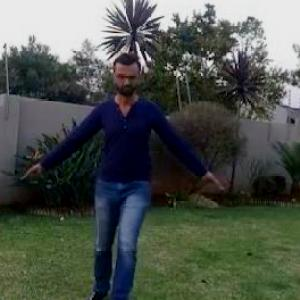land: (39, 19, 200, 290)
